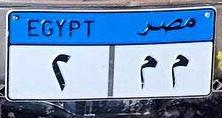2: (51, 52, 73, 91)
meem: (136, 53, 161, 90), (168, 53, 191, 88)
